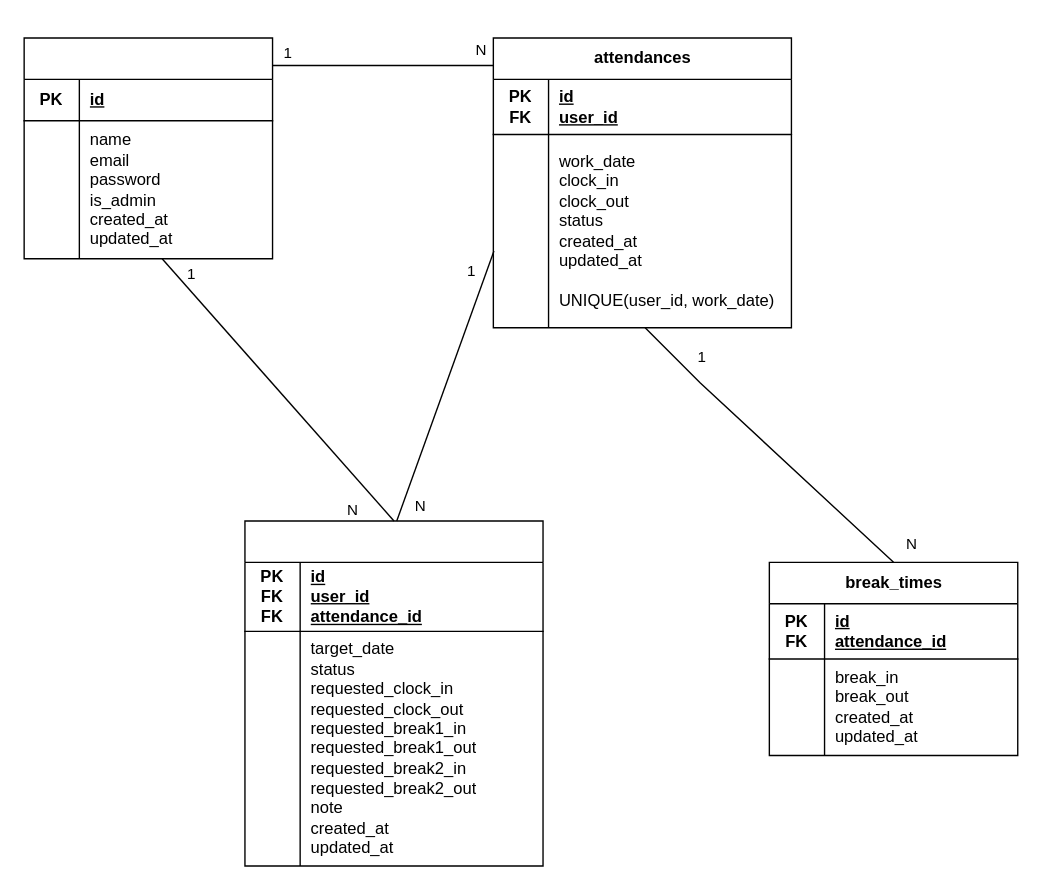
The diagram is 1042 pixels wide and 890 high, and some of its shapes have lost their labels. The shapes that lost their labels are listed below. From the top down, each one's box as (x1, y1, x2, y2) in pixels, then its label:
(23, 37, 273, 259): users
(244, 520, 543, 866): stamp_correction_requests
